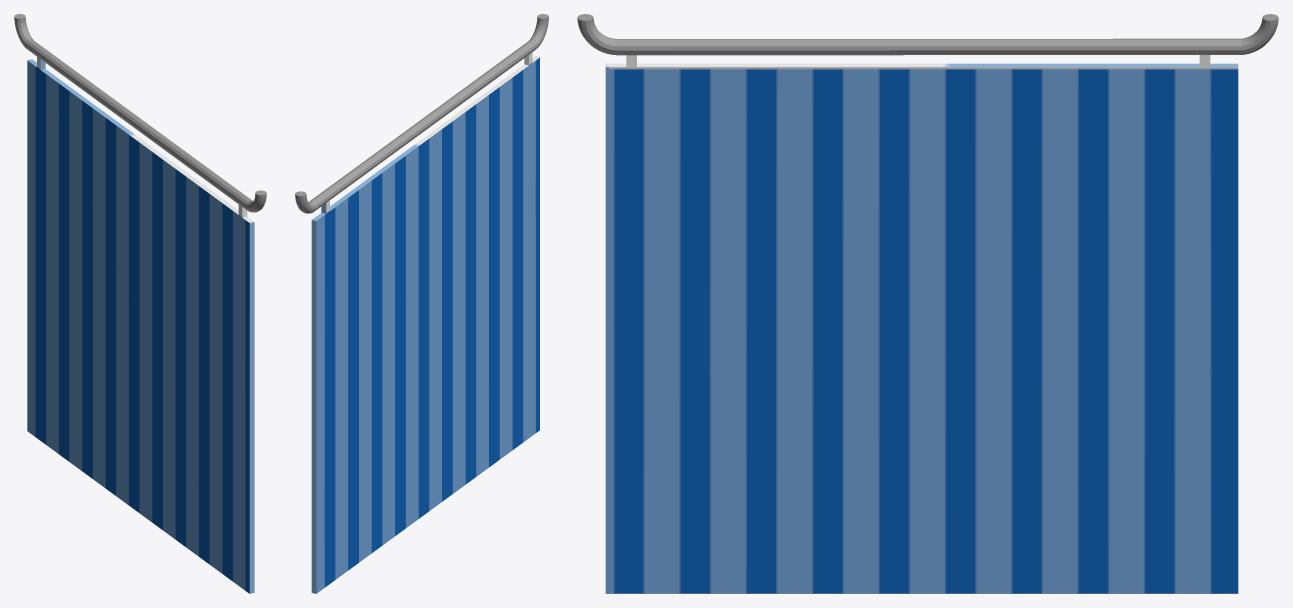
The model's file is CurtainCurtainblend.obj.
3 renders of one model, left to right at view 1: azimuth 30°, elevation 25°; view 2: azimuth 150°, elevation 25°; view 3: azimuth 270°, elevation 25°, orthographic. The views are drawn at different scales.
Parts seen in each view (by area): view 1: Cube_Cube.002, Torus.001; view 2: Cube_Cube.002, Torus.001; view 3: Cube_Cube.002, Torus.001.
Part boxes in pixels (x1,y1,x2,y2): Cube_Cube.002: (27,56,254,593); Torus.001: (14,14,266,212); Cube_Cube.002: (311,52,539,593); Torus.001: (295,14,548,213); Cube_Cube.002: (605,55,1238,593); Torus.001: (577,14,1278,55).
Bounding box in the file's own units: 0.1284 × 4.98 × 5.5.
